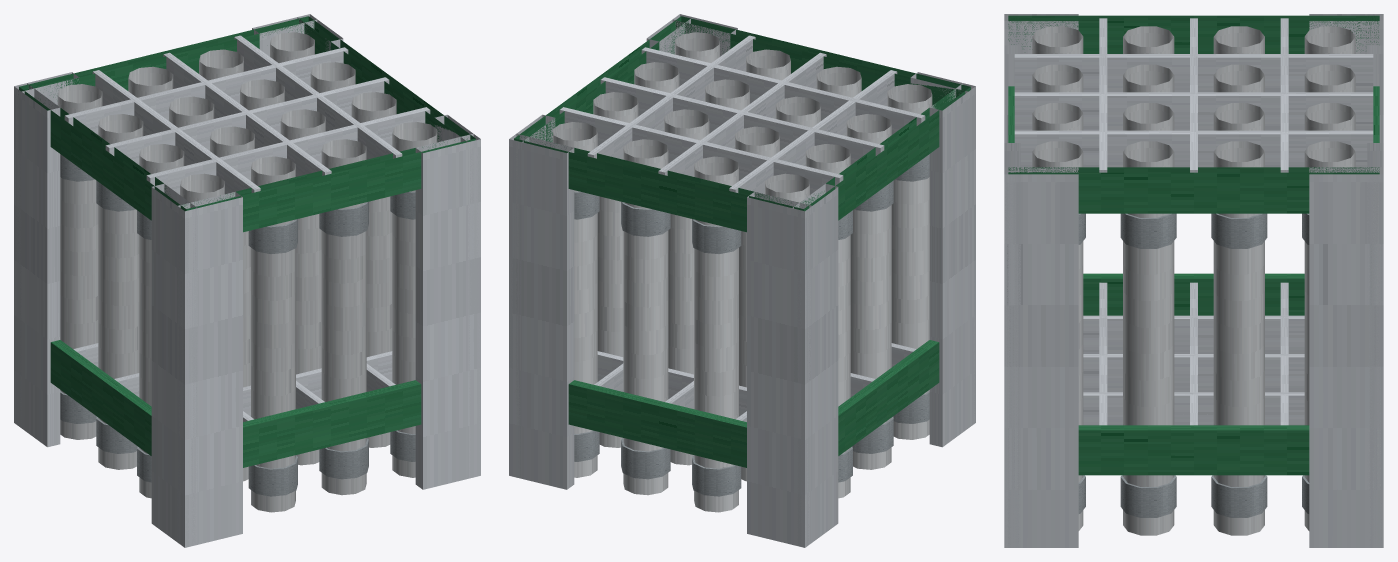
Rendered from tvs_loaded_middle.obj.
3 views of the same model, side by side, from view 1: azimuth 30°, elevation 25°; view 2: azimuth 150°, elevation 25°; view 3: azimuth 270°, elevation 25° (orthographic). The views are drawn at different scales.
Size of the model in its own units: 0.92 by 1 by 0.92.
